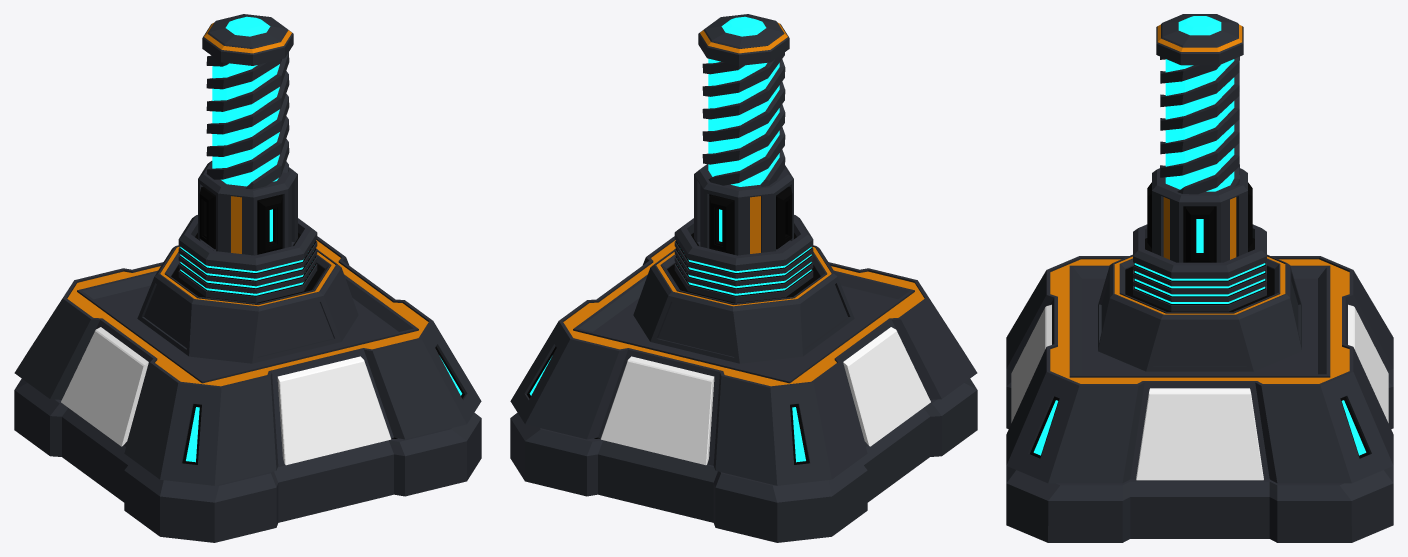
Rendered from SM_Turret_ArcEmitter.fbx.
The picture shows the model from 3 angles, left to right: view 1: azimuth 30°, elevation 25°; view 2: azimuth 150°, elevation 25°; view 3: azimuth 270°, elevation 25°; orthographic projection. The views are drawn at different scales.
Visible parts, largest first — view 1: SM_Turret_ArcEmitter, SM_Turret_ArcEmitter_Rotator, SM_Turret_ArcEmitter_Head; view 2: SM_Turret_ArcEmitter, SM_Turret_ArcEmitter_Rotator, SM_Turret_ArcEmitter_Head; view 3: SM_Turret_ArcEmitter, SM_Turret_ArcEmitter_Rotator, SM_Turret_ArcEmitter_Head.
Part boxes in pixels (bbox=[...]): SM_Turret_ArcEmitter: bbox=[14, 236, 481, 542]; SM_Turret_ArcEmitter_Rotator: bbox=[137, 161, 358, 363]; SM_Turret_ArcEmitter_Head: bbox=[202, 14, 293, 189]; SM_Turret_ArcEmitter: bbox=[510, 236, 977, 542]; SM_Turret_ArcEmitter_Rotator: bbox=[633, 164, 854, 363]; SM_Turret_ArcEmitter_Head: bbox=[698, 14, 789, 186]; SM_Turret_ArcEmitter: bbox=[1006, 256, 1393, 542]; SM_Turret_ArcEmitter_Rotator: bbox=[1098, 168, 1301, 371]; SM_Turret_ArcEmitter_Head: bbox=[1156, 14, 1243, 194].
Size of the model in its own units: 1 by 1.25 by 1.
